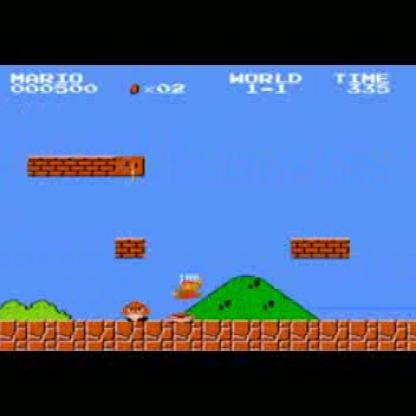Goomba: (118, 293, 152, 325)
